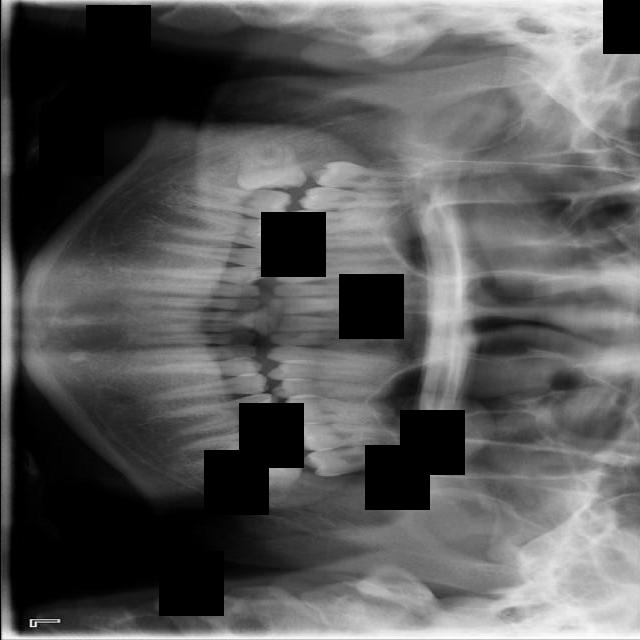3M ESPE Implant: (309, 160, 422, 191)
52: (240, 391, 283, 428), (242, 218, 287, 250)
73: (36, 595, 50, 600)
BioHorizons Implant: (290, 419, 410, 453)
BioLife Implant: (299, 441, 407, 478)
Biomet 3i Implant: (229, 450, 303, 511)
Blue Sky Bio Implant: (175, 420, 294, 471)
Caries: (297, 184, 409, 210)
Implant: (178, 180, 294, 224)
Keystone Dental Implant: (235, 141, 306, 191)
